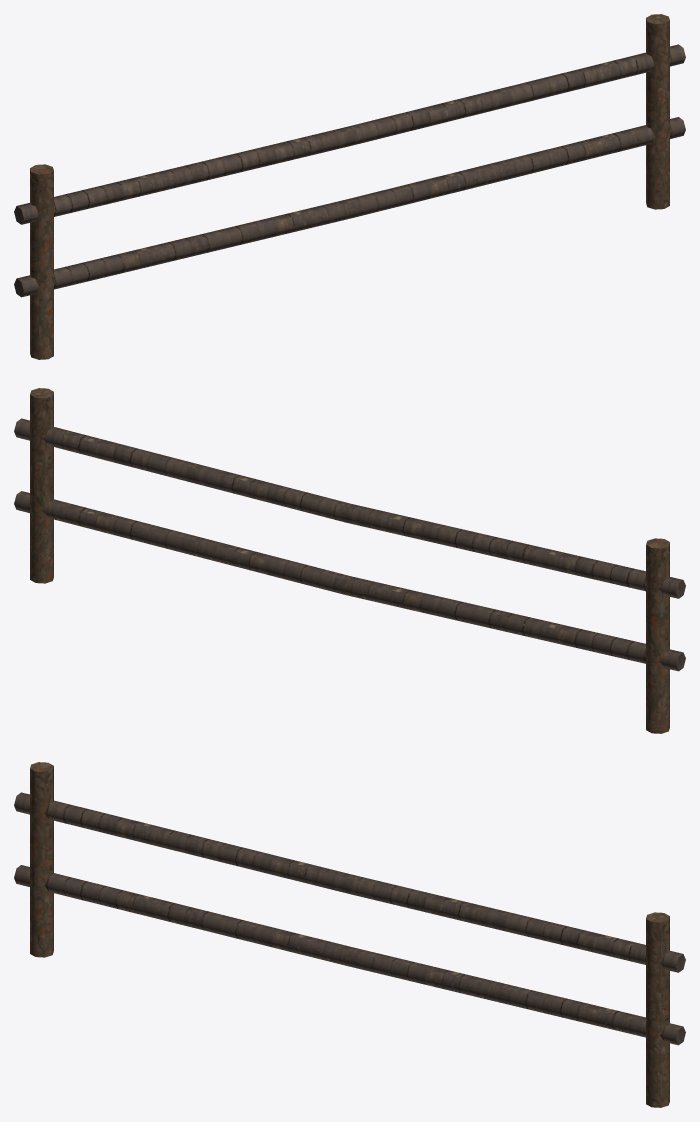
The model's file is fence_rail.glb.
The picture shows the model from 3 angles, top to bottom: view 1: azimuth 30°, elevation 25°; view 2: azimuth 150°, elevation 25°; view 3: azimuth 330°, elevation 25°; orthographic projection.
Parts seen in each view (by area): view 1: fence_rail; view 2: fence_rail; view 3: fence_rail.
Boxes of the visible parts, left/top/right/bottom form: fence_rail: left=14, top=14, right=685, bottom=359; fence_rail: left=14, top=388, right=685, bottom=733; fence_rail: left=14, top=762, right=685, bottom=1107.
Size of the model in its own units: 4.3 by 1.15 by 0.145.
1 material, 1 textured.
